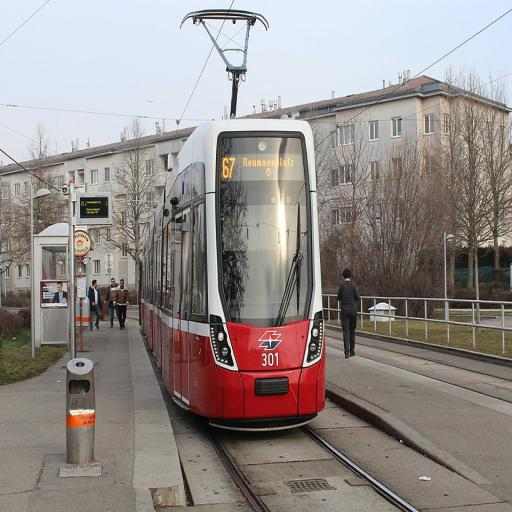Flexity: (136, 110, 330, 442)
